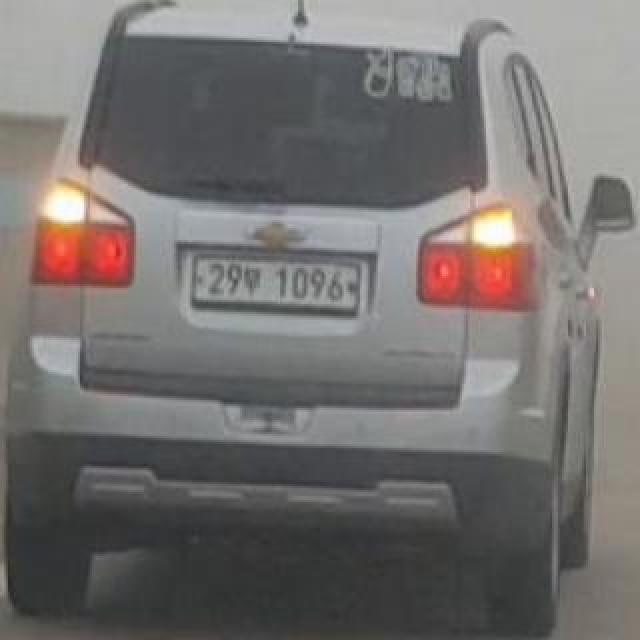car: (12, 0, 640, 638)
illegal_plate: (188, 250, 368, 326)
